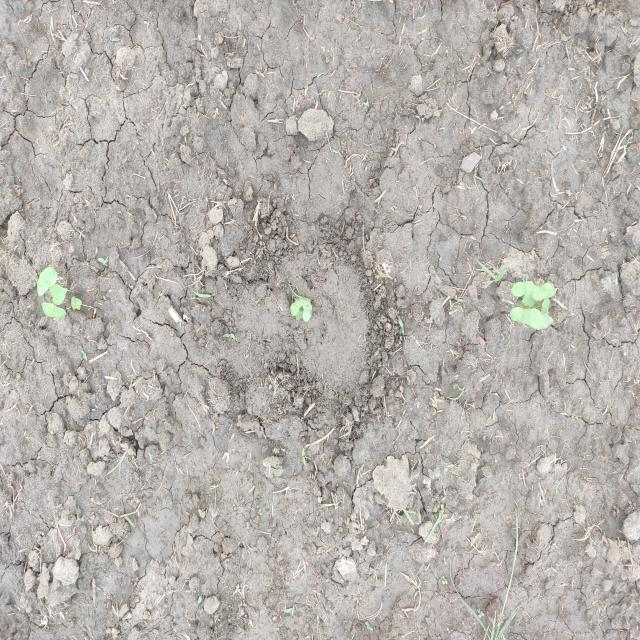seedling_s4: (37, 267, 58, 296), (529, 308, 553, 330), (531, 282, 556, 301), (510, 307, 535, 324), (49, 284, 68, 305), (42, 302, 66, 318), (512, 281, 535, 297), (290, 297, 304, 316), (302, 298, 312, 322), (541, 298, 550, 315), (523, 294, 534, 307), (296, 310, 303, 320)
